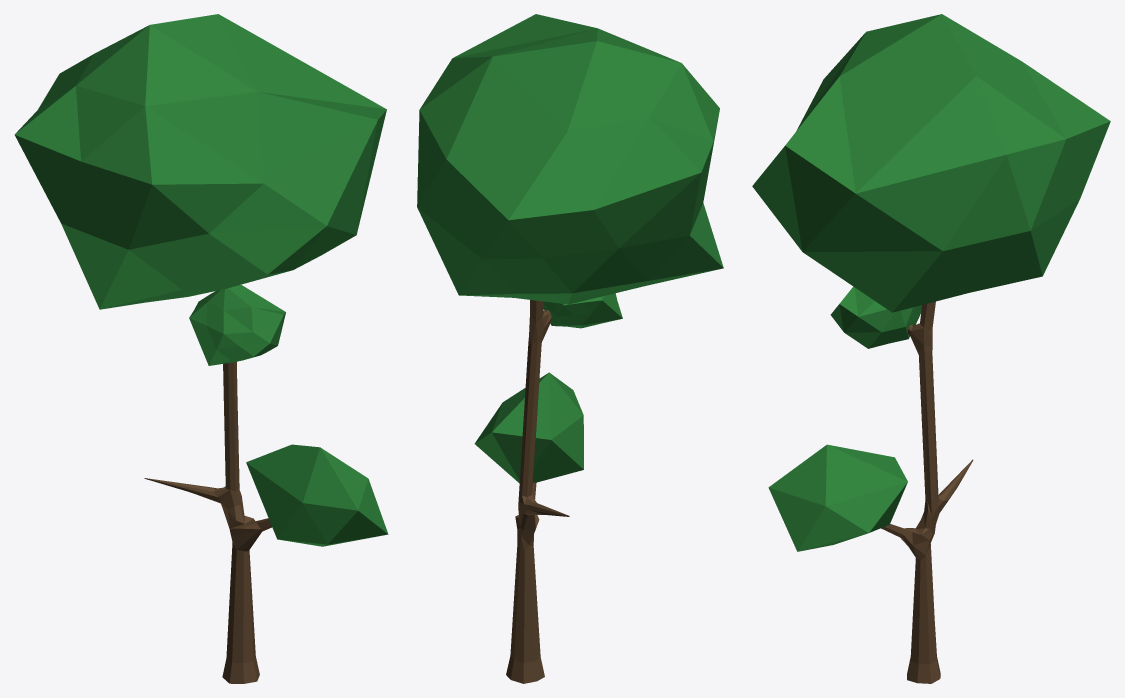
File: barco2.fbx
3 views of the same model, side by side, from view 1: azimuth 30°, elevation 25°; view 2: azimuth 150°, elevation 25°; view 3: azimuth 270°, elevation 25° (orthographic). The views are drawn at different scales.
Parts seen in each view (by area): view 1: arbol.007; view 2: arbol.007; view 3: arbol.007.
Part boxes in pixels (bbox=[...]): arbol.007: bbox=[14, 14, 388, 683]; arbol.007: bbox=[417, 14, 723, 683]; arbol.007: bbox=[752, 14, 1110, 683].
Size of the model in its own units: 1622 by 3309 by 1719.
